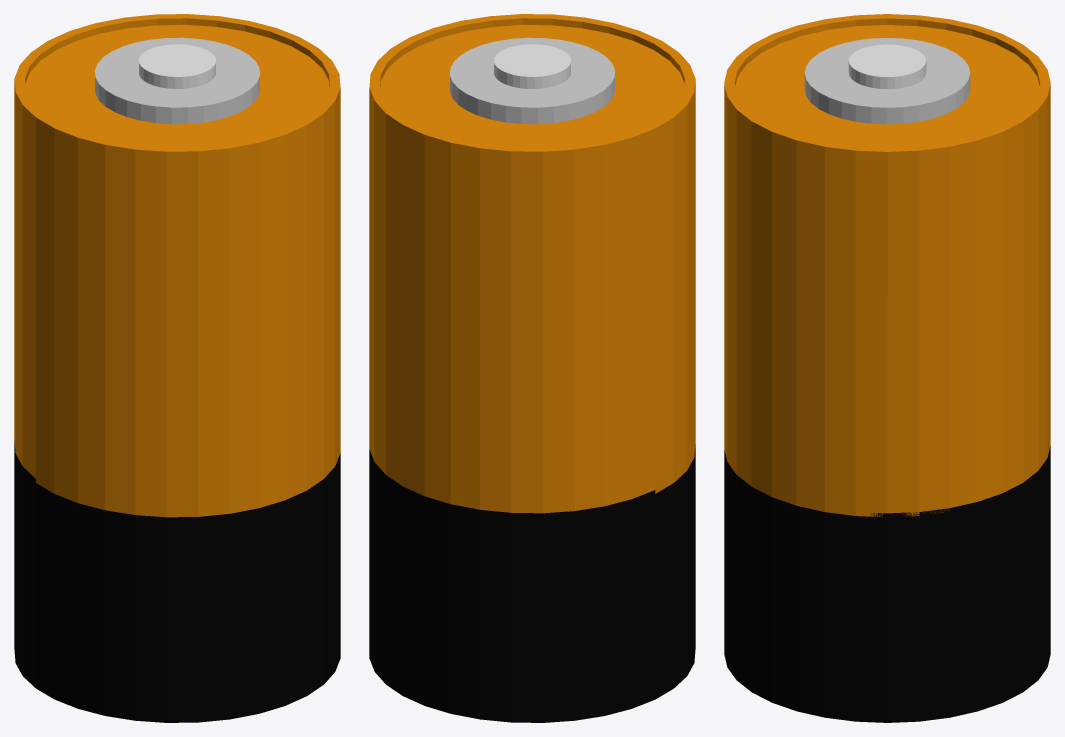
File: Bateria.fbx
The picture shows the model from 3 angles, left to right: view 1: azimuth 30°, elevation 25°; view 2: azimuth 150°, elevation 25°; view 3: azimuth 270°, elevation 25°; orthographic projection.
Parts seen in each view (by area): view 1: Cilindro, Cilindro.003, Cilindro.001, Cilindro.002; view 2: Cilindro, Cilindro.003, Cilindro.001, Cilindro.002; view 3: Cilindro, Cilindro.003, Cilindro.001, Cilindro.002.
Part boxes in pixels (x1,y1,x2,y2): Cilindro: [14, 14, 340, 517]; Cilindro.003: [14, 440, 340, 722]; Cilindro.001: [95, 37, 259, 124]; Cilindro.002: [139, 44, 215, 88]; Cilindro: [369, 14, 695, 513]; Cilindro.003: [369, 444, 695, 722]; Cilindro.001: [450, 37, 614, 124]; Cilindro.002: [494, 44, 570, 88]; Cilindro: [724, 14, 1050, 517]; Cilindro.003: [724, 446, 1050, 722]; Cilindro.001: [804, 38, 970, 124]; Cilindro.002: [848, 44, 926, 89].
Size of the model in its own units: 200 by 401 by 200.
